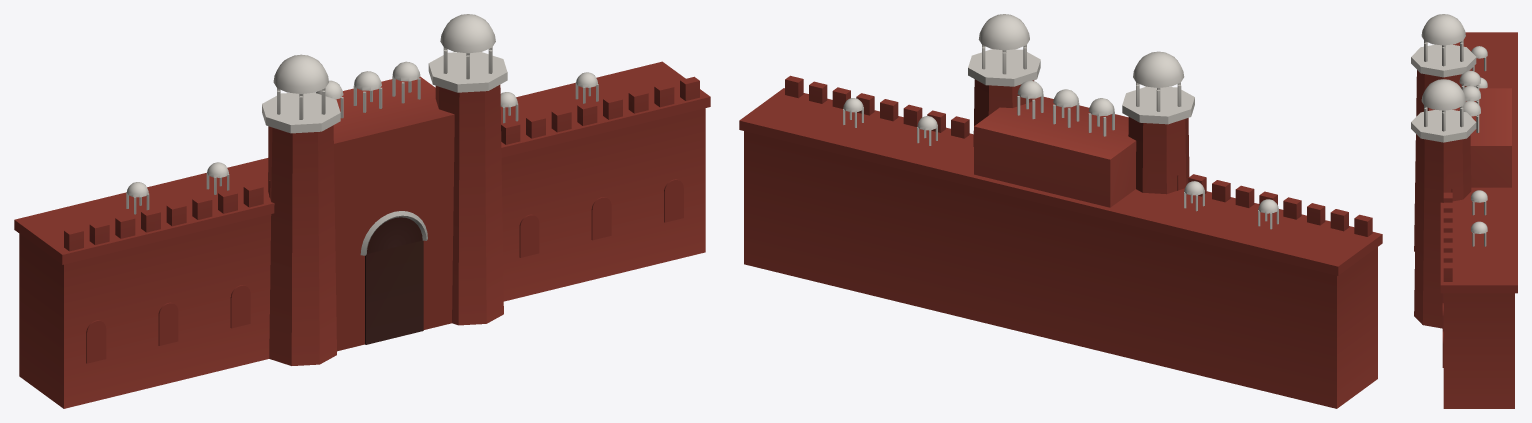
File: lm-redfort.glb
The picture shows the model from 3 angles, left to right: view 1: azimuth 30°, elevation 25°; view 2: azimuth 150°, elevation 25°; view 3: azimuth 270°, elevation 25°; orthographic projection. The views are drawn at different scales.
Size of the model in its own units: 20.2 by 8.75 by 3.6.
